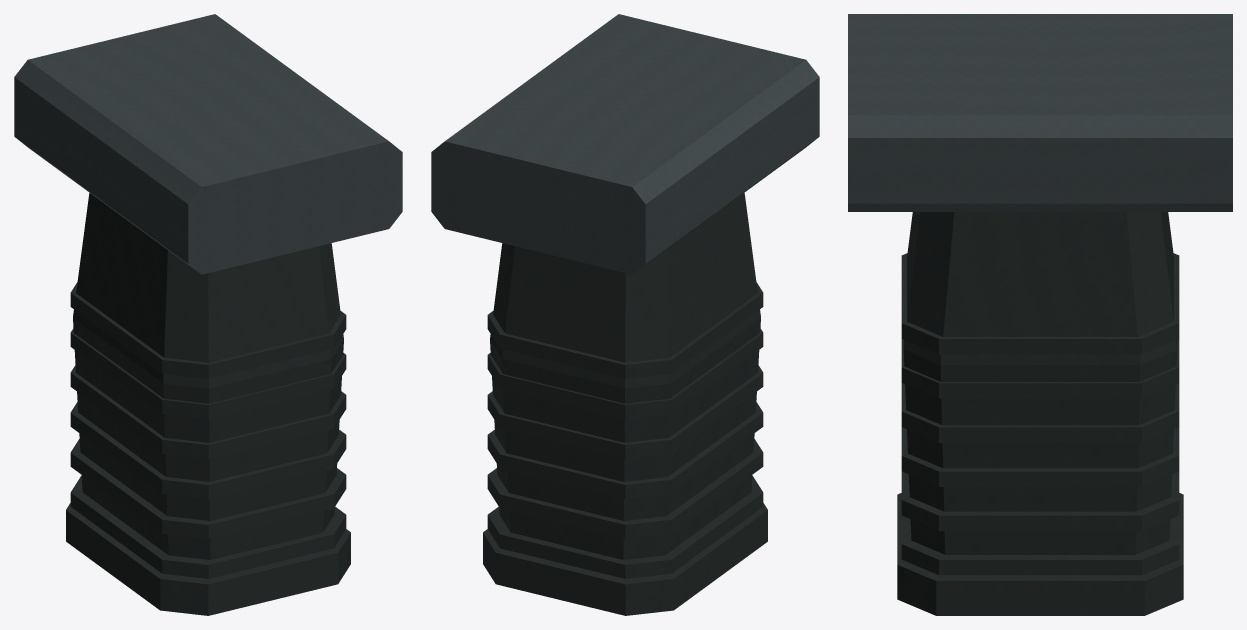
Rendered from fore_stub.glb.
3 views of the same model, side by side, from view 1: azimuth 30°, elevation 25°; view 2: azimuth 150°, elevation 25°; view 3: azimuth 270°, elevation 25° (orthographic). The views are drawn at different scales.
Parts seen in each view (by area): view 1: fore_stub_faceted_handle, fore_stub_rail_clamp; view 2: fore_stub_faceted_handle, fore_stub_rail_clamp; view 3: fore_stub_faceted_handle, fore_stub_rail_clamp.
Boxes of the visible parts, x1=… form: fore_stub_faceted_handle: x1=66, y1=193, x2=350, y2=615; fore_stub_rail_clamp: x1=14, y1=14, x2=402, y2=274; fore_stub_faceted_handle: x1=483, y1=193, x2=767, y2=615; fore_stub_rail_clamp: x1=431, y1=14, x2=819, y2=274; fore_stub_faceted_handle: x1=897, y1=212, x2=1183, y2=615; fore_stub_rail_clamp: x1=848, y1=14, x2=1232, y2=211.
Size of the model in its own units: 0.064 by 0.129 by 0.09.
2 materials, 2 textured.
